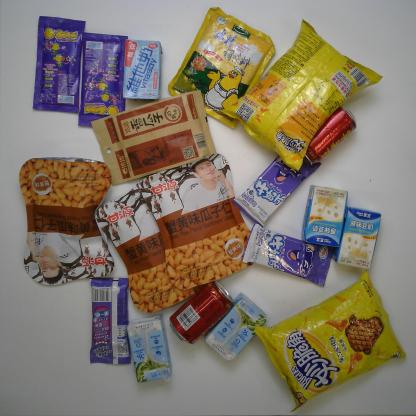Candy: (231, 145, 321, 228), (242, 223, 333, 286), (31, 15, 86, 114), (76, 32, 127, 128), (88, 277, 132, 367)
Dried Food: (89, 89, 217, 186)
Dried Fruit: (95, 175, 214, 315), (141, 151, 257, 290), (18, 156, 115, 288)
Drink: (170, 282, 233, 345), (297, 101, 357, 165)
Milk: (204, 293, 267, 362), (127, 314, 173, 385), (300, 185, 348, 247), (335, 206, 382, 269), (121, 37, 161, 101)
Puffed Food: (221, 19, 382, 172), (254, 270, 406, 412)
Seasoner: (167, 7, 276, 131)
